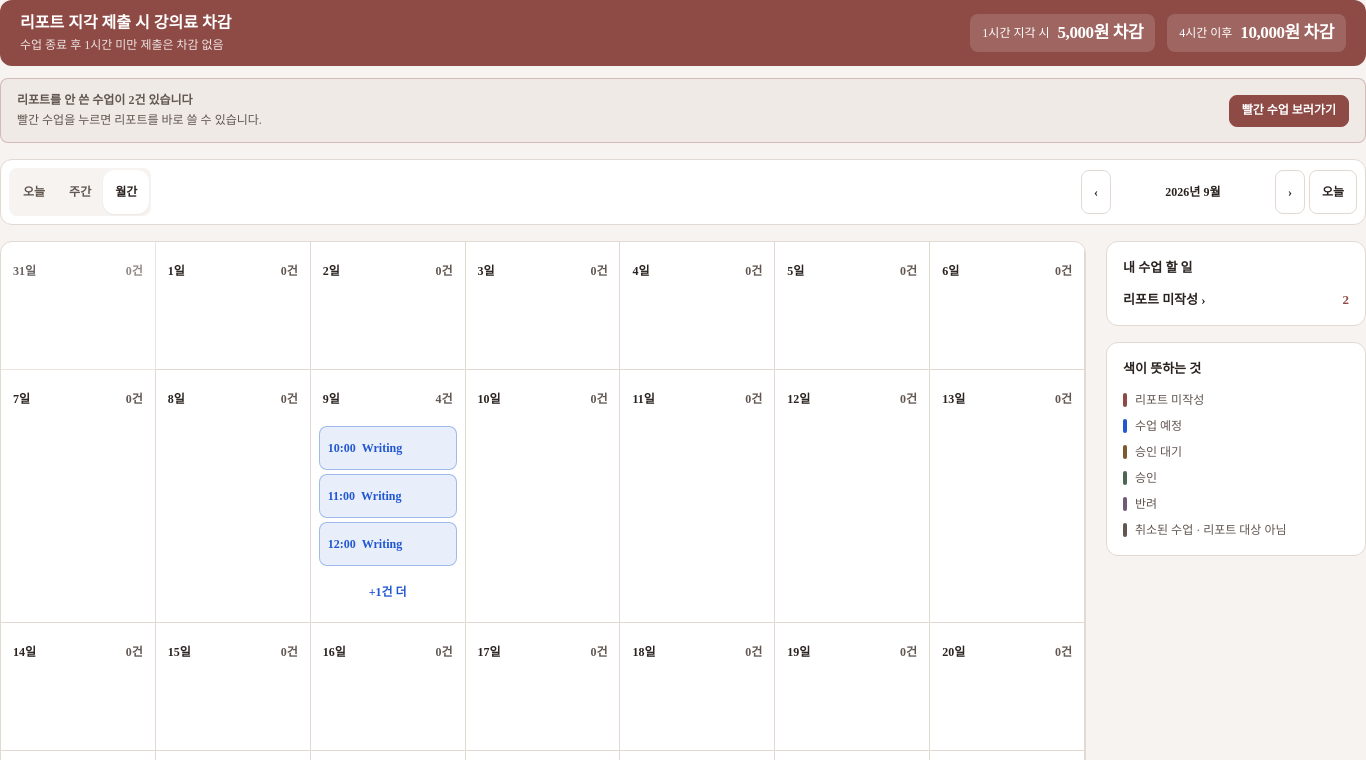
Test: BOC-05b 강사 오늘·주간·월간 캘린더 › 월간은 달을 덮는 격자 범위를 읽고 하루 3건 뒤 나머지를 명시적으로 펼친다
Check: the element showing "9일 4건 10:00 Writing 11:00 Writing 12:00 Writing +1건 더" is shown, box x1=311 y1=370 x2=466 y2=623
Check: the number of buttons "10:00 Writing" is 3, box x1=319 y1=426 x2=457 y2=470; x1=319 y1=474 x2=457 y2=518; x1=319 y1=522 x2=457 y2=566
Click the button "+1건 더" at point(388, 592), box x1=319 y1=570 x2=457 y2=614
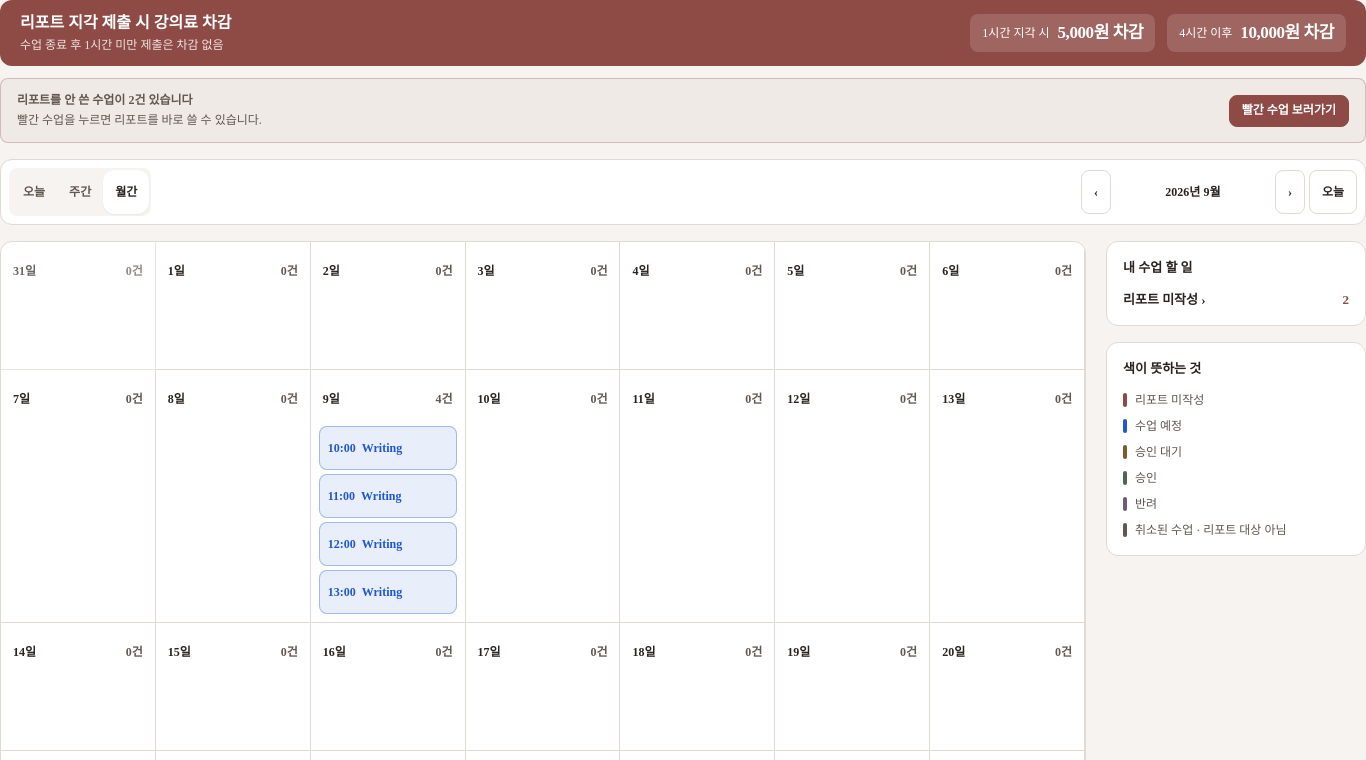
Check: the number of buttons "10:00 Writing" is 4, box x1=319 y1=426 x2=457 y2=470; x1=319 y1=474 x2=457 y2=518; x1=319 y1=522 x2=457 y2=566; x1=319 y1=570 x2=457 y2=614
